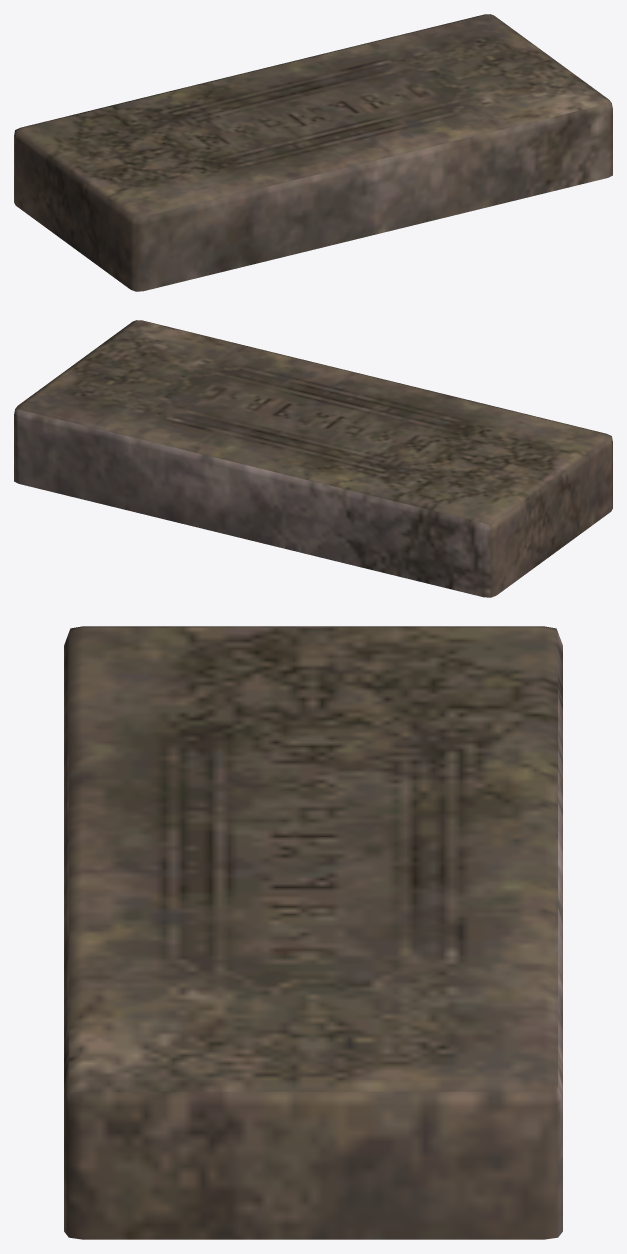
The model's file is SM_tombstone_08.fbx.
The picture shows the model from 3 angles, top to bottom: view 1: azimuth 30°, elevation 25°; view 2: azimuth 150°, elevation 25°; view 3: azimuth 270°, elevation 25°; orthographic projection. The views are drawn at different scales.
Parts seen in each view (by area): view 1: SM_tombstone_08; view 2: SM_tombstone_08; view 3: SM_tombstone_08.
Part boxes in pixels (x1,y1,x2,y2): SM_tombstone_08: (14, 14, 612, 291); SM_tombstone_08: (14, 320, 612, 597); SM_tombstone_08: (64, 626, 562, 1239).
Bounding box in the file's own units: 57.57 × 8.61 × 25.86.
